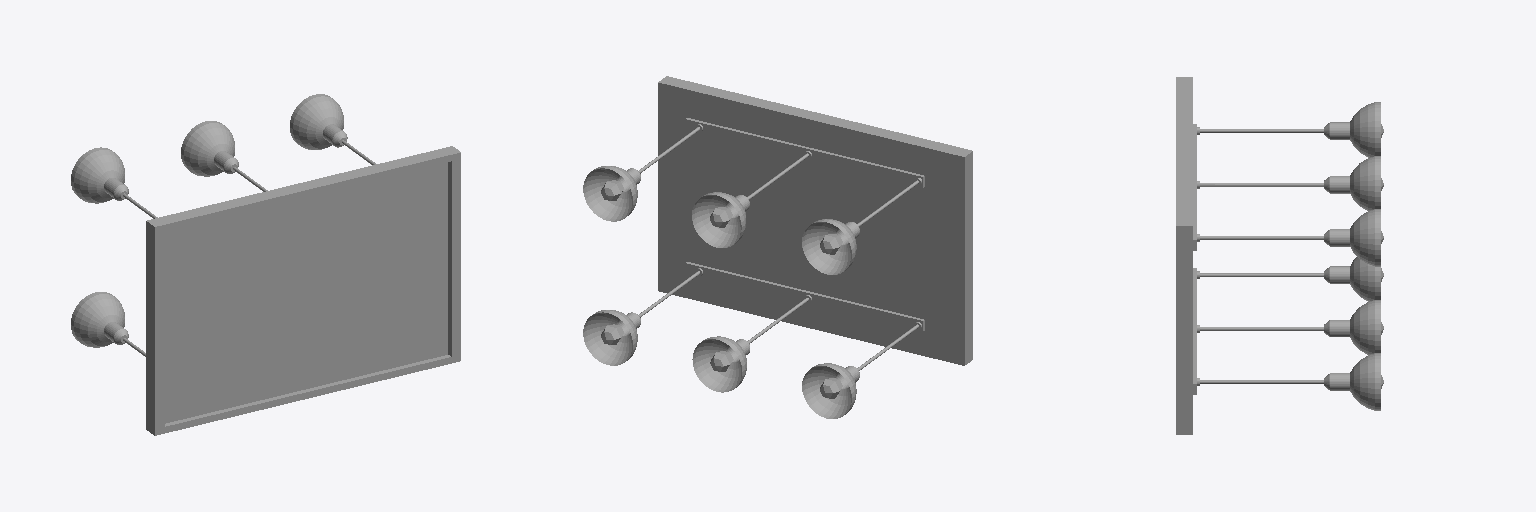
Rendered from lamps-and-lights.obj.
3 renders of one model, left to right at view 1: azimuth 30°, elevation 25°; view 2: azimuth 150°, elevation 25°; view 3: azimuth 270°, elevation 25°, orthographic.
Parts seen in each view (by area): view 1: Plane_Plane_001, Cone_001_Cone_001.002, Cone_005_Cone_006.002, Cone_003_Cone_004.003, Cone_004_Cone_005.002; view 2: Plane_Plane_001, Cube_001_Cube_002, Cube_Cube_001, Cone_002_Cone_003, Cone_005_Cone_006.002, Cone_003_Cone_004.003, Cone_001_Cone_001.002, Cone_004_Cone_005.002, Cone_000_Cone_002.001; view 3: Plane_Plane_001, Cone_002_Cone_003, Cone_003_Cone_004.003, Cone_005_Cone_006.002, Cone_004_Cone_005.002, Cone_000_Cone_002.001, Cone_001_Cone_001.002.
Boxes of the visible parts, x1,y1,x2,y2 form: Plane_Plane_001: [146, 146, 460, 435]; Cone_001_Cone_001.002: [71, 292, 128, 347]; Cone_005_Cone_006.002: [71, 147, 128, 203]; Cone_003_Cone_004.003: [290, 94, 347, 149]; Cone_004_Cone_005.002: [181, 121, 238, 176]; Plane_Plane_001: [658, 76, 972, 365]; Cube_001_Cube_002: [685, 118, 924, 187]; Cube_Cube_001: [685, 262, 924, 331]; Cone_002_Cone_003: [583, 310, 640, 365]; Cone_005_Cone_006.002: [802, 219, 859, 274]; Cone_003_Cone_004.003: [583, 166, 640, 221]; Cone_001_Cone_001.002: [802, 363, 859, 418]; Cone_004_Cone_005.002: [692, 192, 749, 247]; Cone_000_Cone_002.001: [692, 336, 749, 392]; Plane_Plane_001: [1176, 77, 1192, 434]; Cone_002_Cone_003: [1324, 353, 1380, 410]; Cone_003_Cone_004.003: [1324, 209, 1380, 266]; Cone_005_Cone_006.002: [1324, 102, 1380, 157]; Cone_004_Cone_005.002: [1324, 156, 1380, 210]; Cone_000_Cone_002.001: [1324, 300, 1380, 354]; Cone_001_Cone_001.002: [1324, 257, 1380, 301].
Size of the model in its own units: 12.29 by 8 by 7.24.